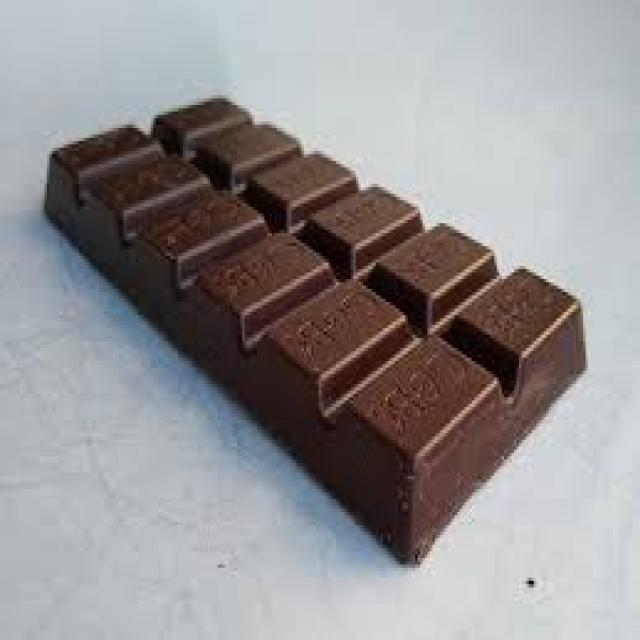Chocolate: (46, 94, 584, 566)
